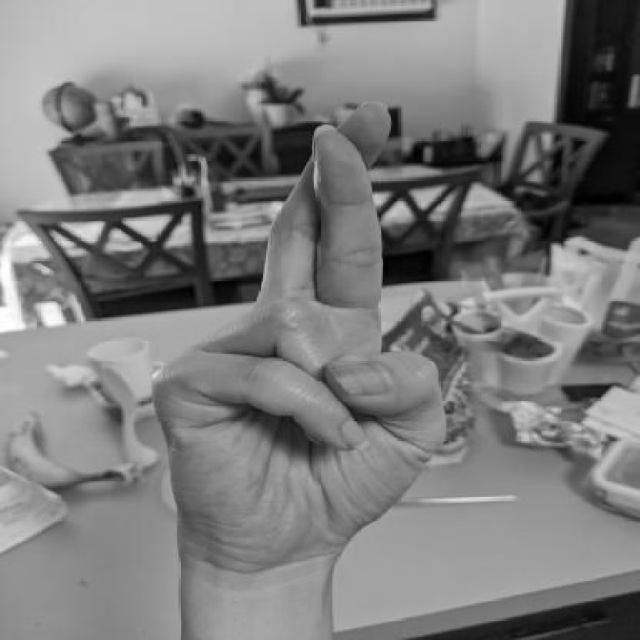R: (142, 94, 460, 580)
